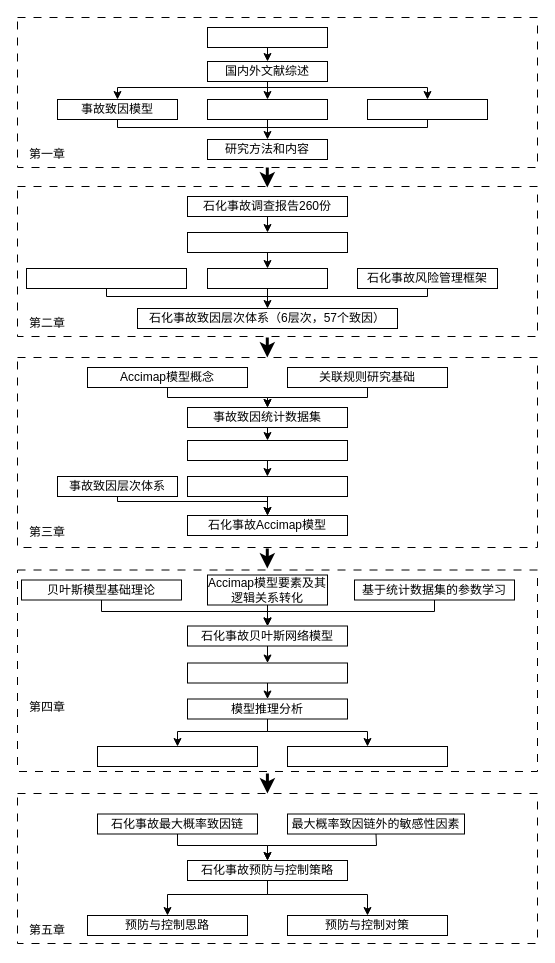
The diagram is 555 pixels wide and 963 high, and some of its shapes have lost their labels. The box of each missing label's shape, as (x1, y1, x2, y2) in pixels:
事故风险分析: (206, 98, 328, 120)
关联规则分析: (186, 440, 348, 460)
强关联规则: (186, 476, 348, 496)
敏感性分析: (286, 746, 448, 766)
模型验证: (186, 662, 348, 683)
相关文献和规范: (206, 268, 328, 288)
石化事故基本信息分析框架: (26, 268, 186, 288)
石化安全管理: (366, 98, 488, 120)
石化安全系统要素及特征分析: (186, 232, 348, 252)
研究背景及意义: (206, 26, 328, 48)
逆向诊断分析: (96, 746, 258, 766)
